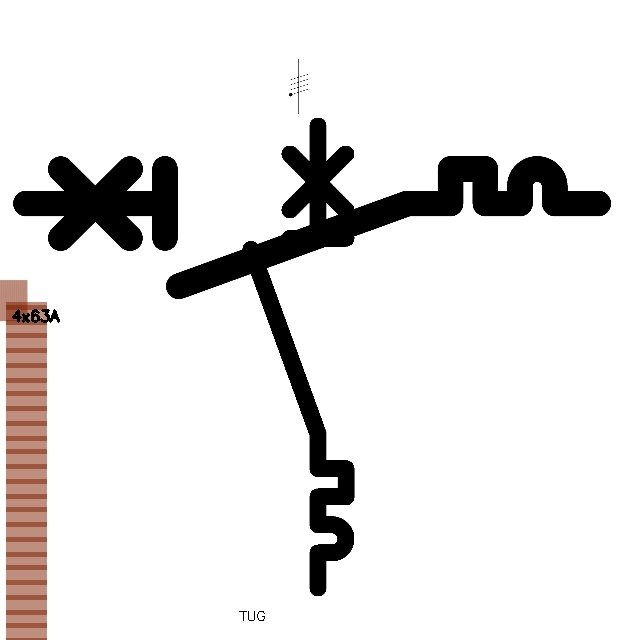interruptor_termomagnetico: (11, 154, 613, 301), (239, 114, 358, 600)
